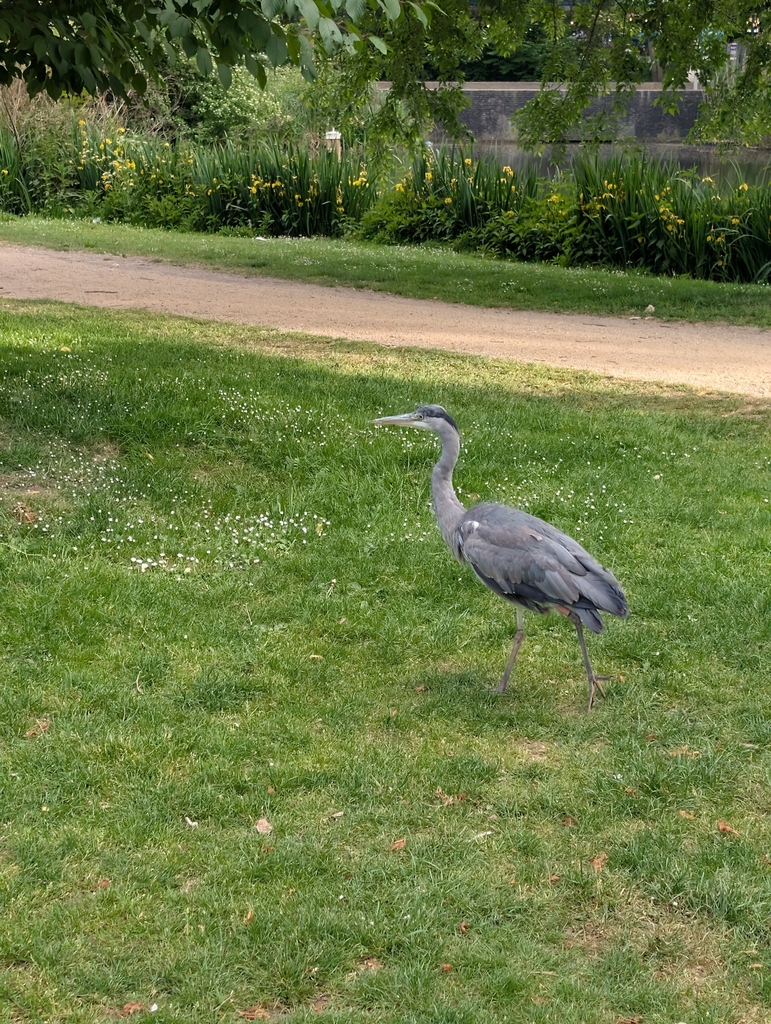heron: (368, 405, 632, 721)
